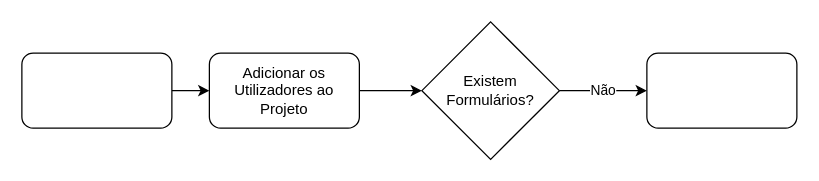
Some shapes in this 819 by 181 pixel diagram are drawn without their labels. The centre of each missing label's shape, as x and y in pixels:
"Criar Formulários" goes at point (721, 90).
"Selecionar Projeto" goes at point (96, 90).
